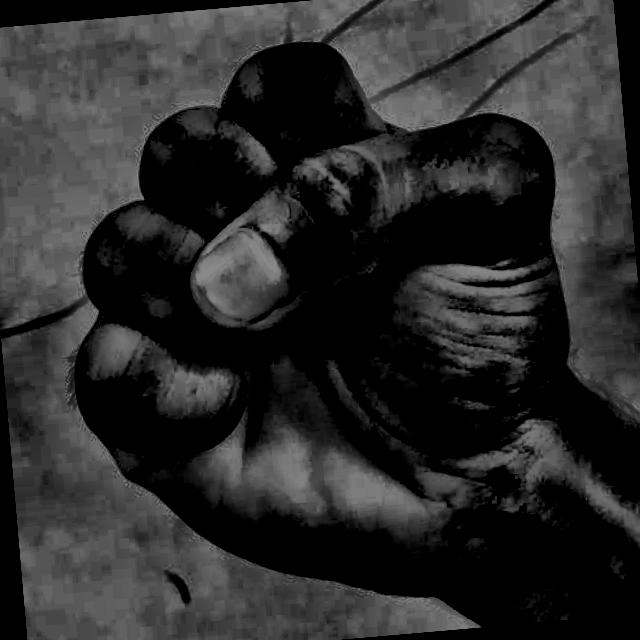Sha: (19, 5, 630, 640)
